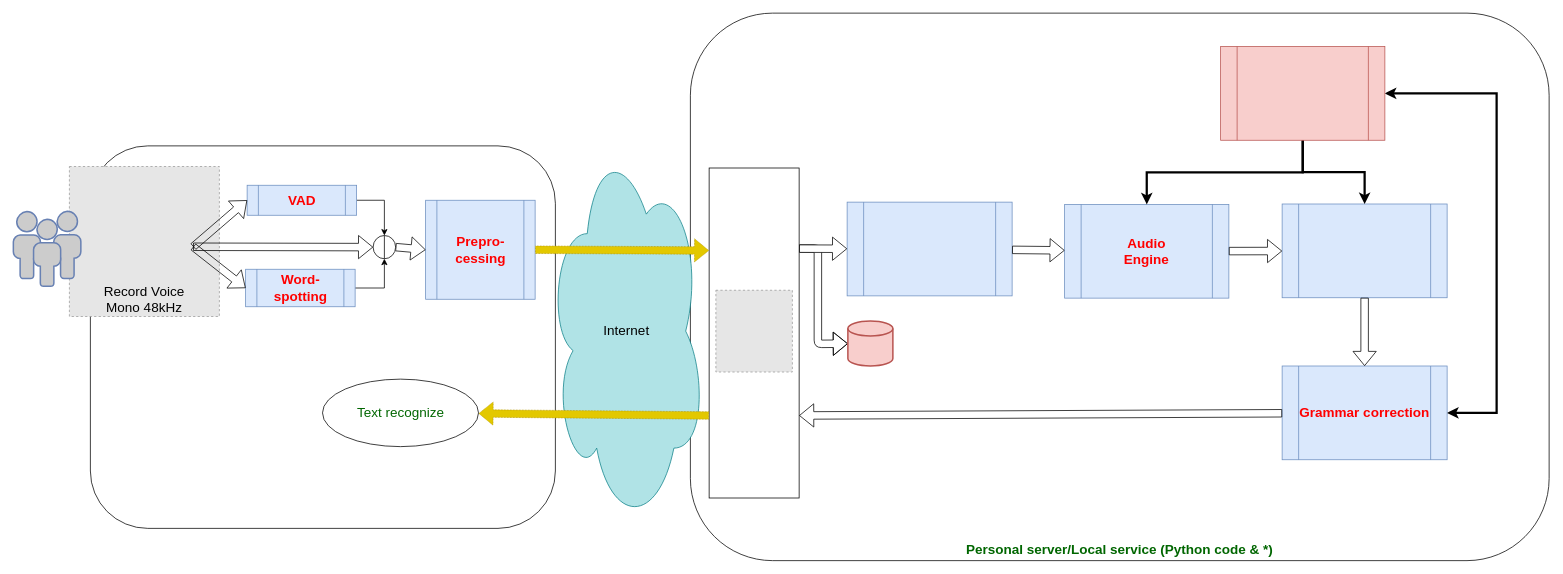
The diagram is 1563 pixels wide and 574 high, and some of its shapes have lost their labels. Grey dashed boxes stand in for pictures. The shapes that lost their labels are listed below. From the top down, each one's box as (x1, y1, x2, y2) in pixels, then its label:
(1220, 46, 1385, 140): Context
(846, 201, 1012, 296): Preprocessing
(1281, 203, 1447, 298): NLP Engine
(90, 145, 555, 528): Local device (C++ code)
(847, 320, 893, 366): Runtime Corpus (unknow noise, unknow quality)
